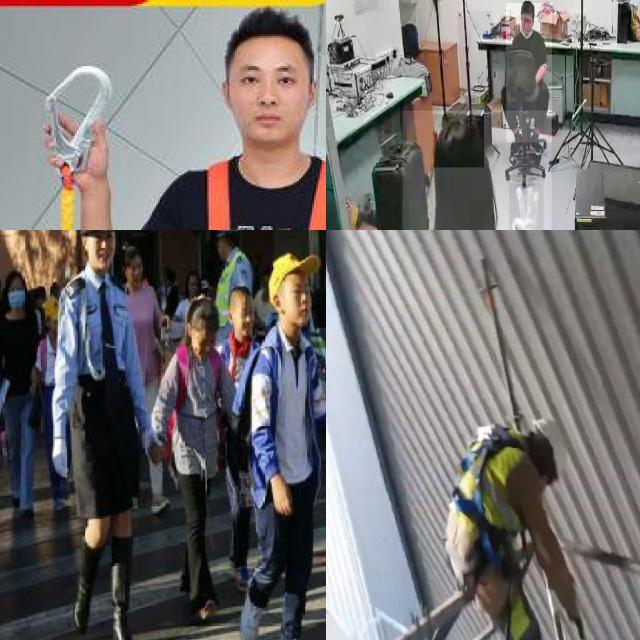Harness: (452, 426, 522, 568)
face_nomask: (84, 231, 119, 274), (282, 285, 315, 322), (187, 325, 219, 363), (232, 306, 254, 341), (521, 12, 533, 34)
hand_glove: (508, 183, 543, 230), (50, 439, 69, 476), (138, 424, 161, 454)
hand_noglove: (269, 476, 293, 517), (148, 439, 166, 463), (29, 364, 41, 394)
head_nohelmet: (434, 114, 484, 168), (266, 245, 314, 287), (190, 294, 220, 328), (227, 286, 252, 306), (519, 0, 534, 12)
person: (47, 230, 165, 640), (254, 237, 326, 640), (167, 296, 244, 616), (402, 110, 551, 230), (506, 3, 552, 143)
shoes: (65, 565, 100, 634), (509, 125, 524, 158), (529, 127, 543, 156)
